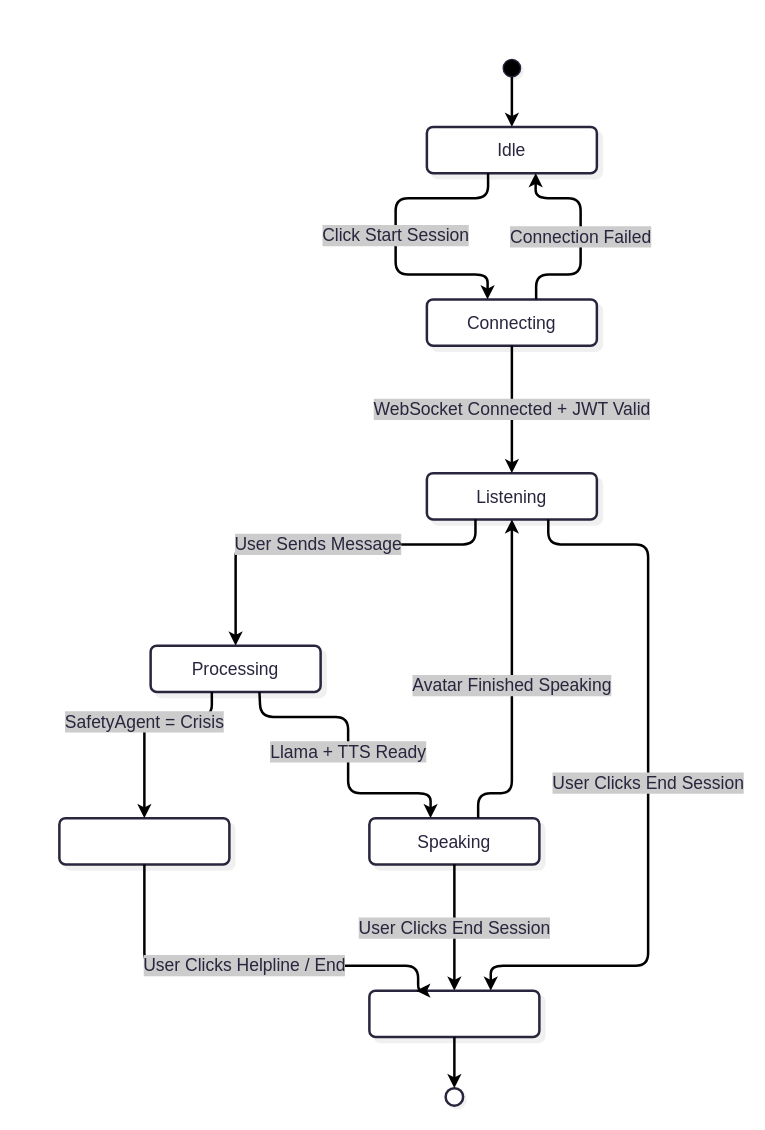
The diagram is 765 pixels wide and 1130 high, and some of its shapes have lost their labels. The shapes that lost their labels are listed below. From the top down, each one's centre as x and y in pixels, then its label:
At pixel 146 843: "CrisisState".
At pixel 456 1015: "Ended".
